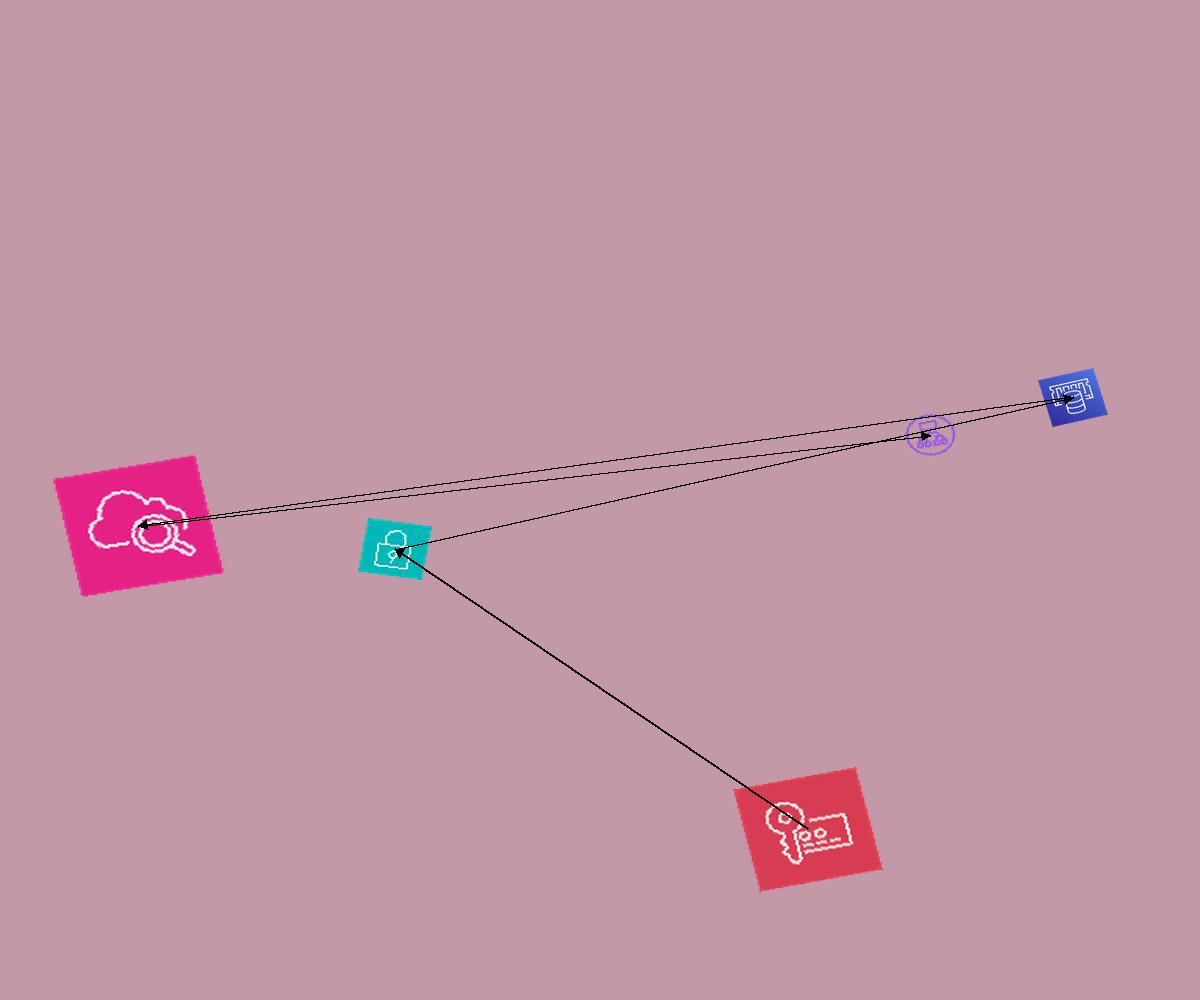AWS-CloudWatch: (52, 454, 225, 598)
AWS-ElastiCache: (1038, 368, 1108, 427)
AWS-Key-Management-Service: (733, 767, 883, 892)
AWS-Private-subnet: (358, 518, 432, 580)
AWS-Res_Elastic-Load-Balancing_Application-Load-Balancer: (898, 408, 963, 462)
